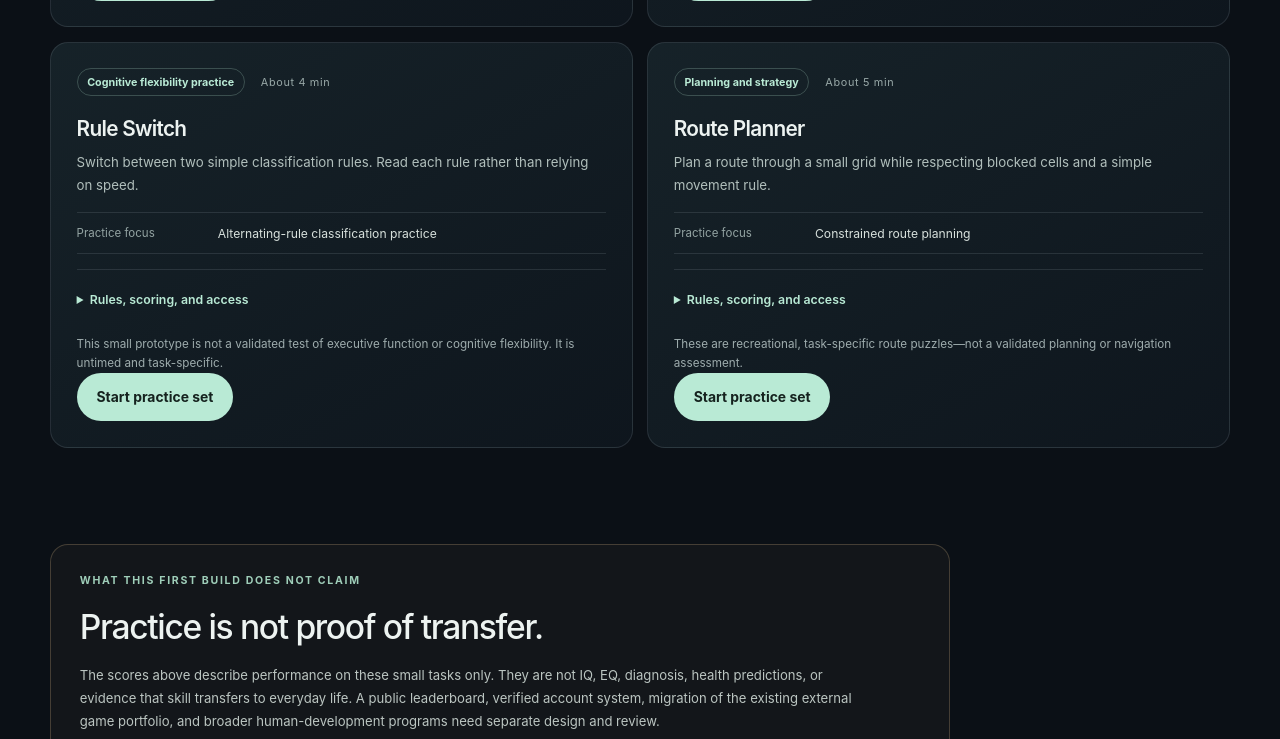
Scenario: TrainingHub › shows a semantic map and valid route choices in Route Planner
(page scrolled)
Expected: the element "Route Planner" is shown, [647,42,1230,448]
Click the button "Start practice set" below "Constrained route planning": (752, 397) [674,373,830,422]
(page scrolled)
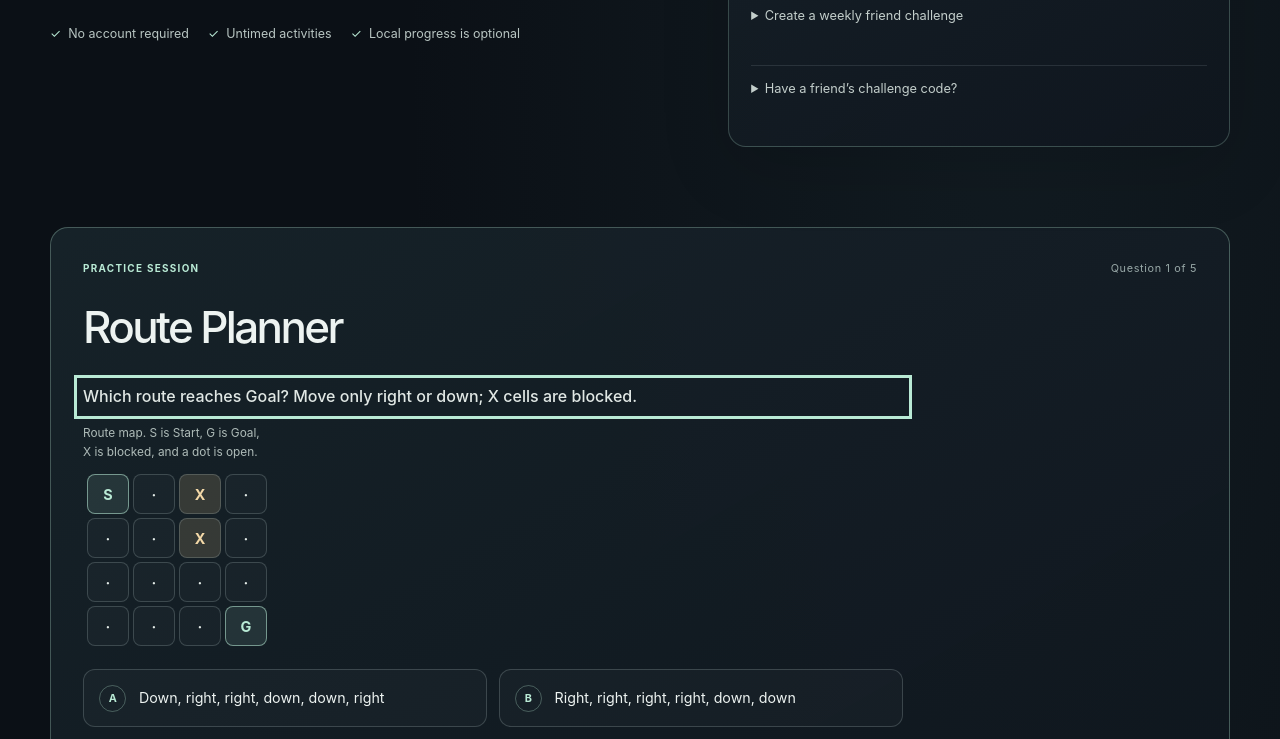
Result: the table "Route map" is shown at [83,424,271,650]
